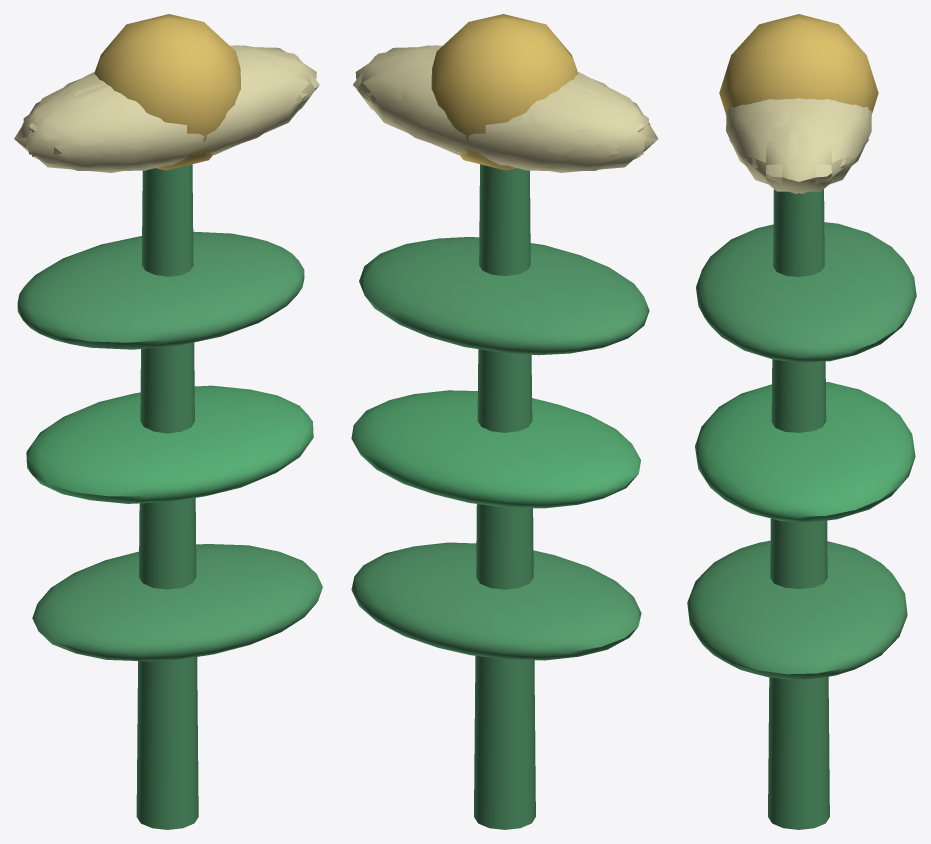
Rendered from chamaecrista-nomame.glb.
The picture shows the model from 3 angles, left to right: view 1: azimuth 30°, elevation 25°; view 2: azimuth 150°, elevation 25°; view 3: azimuth 270°, elevation 25°; orthographic projection.
Parts seen in each view (by area): view 1: stem, leaf2, leaf0, leaf1, center, petal6, petal2, petal1, petal5, petal7, petal0; view 2: stem, leaf2, leaf1, leaf0, center, petal3, petal7, petal8, petal4, petal2, petal0; view 3: leaf1, leaf2, leaf0, stem, center, petal0, petal4, petal5, petal8, petal1.
Boxes of the visible parts, <box> form: stem: <box>136,164,198,829</box>; leaf2: <box>17,231,304,349</box>; leaf0: <box>32,544,322,661</box>; leaf1: <box>26,385,313,503</box>; center: <box>94,14,240,170</box>; petal6: <box>31,85,227,170</box>; petal2: <box>23,79,174,172</box>; petal1: <box>100,64,302,169</box>; petal5: <box>162,54,319,161</box>; petal7: <box>14,74,113,164</box>; petal0: <box>234,47,316,144</box>; stem: <box>474,164,535,829</box>; leaf2: <box>359,237,649,355</box>; leaf1: <box>351,390,640,508</box>; leaf0: <box>351,542,641,660</box>; center: <box>431,14,577,170</box>; petal3: <box>445,85,640,170</box>; petal7: <box>498,79,648,172</box>; petal8: <box>370,64,572,169</box>; petal4: <box>353,54,509,161</box>; petal2: <box>558,74,658,164</box>; petal0: <box>355,47,438,144</box>; leaf1: <box>695,382,915,521</box>; leaf2: <box>696,222,916,362</box>; leaf0: <box>687,540,907,679</box>; stem: <box>768,189,829,829</box>; center: <box>719,14,878,112</box>; petal0: <box>740,98,857,191</box>; petal4: <box>787,99,868,193</box>; petal5: <box>729,99,810,193</box>; petal8: <box>822,99,871,166</box>; petal1: <box>726,99,775,166</box>.
Size of the model in its own units: 0.1541 by 0.3967 by 0.1036.
